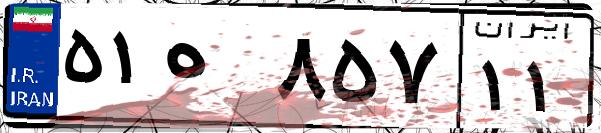1: (475, 38, 525, 113), (525, 38, 570, 115), (110, 28, 158, 98)
5: (330, 28, 385, 110), (57, 26, 110, 100)
7: (385, 28, 445, 110)
8: (270, 28, 330, 110)
ه: (158, 20, 270, 120)
